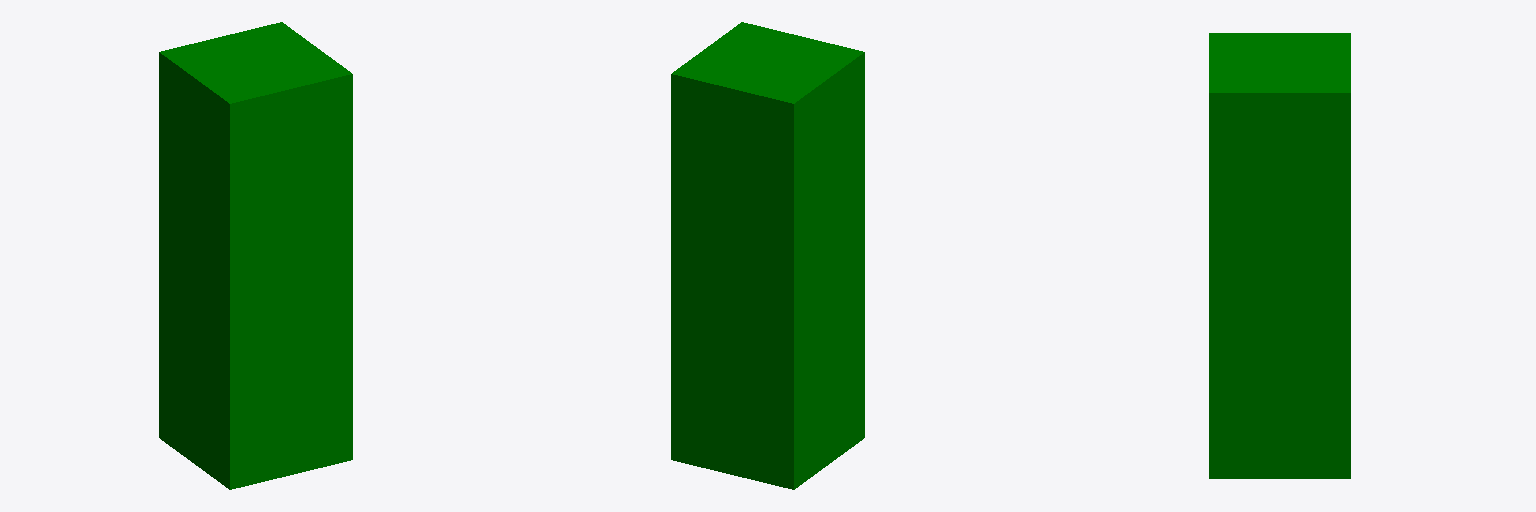
The picture shows the model from 3 angles: view 1: azimuth 30°, elevation 25°; view 2: azimuth 150°, elevation 25°; view 3: azimuth 270°, elevation 25°; orthographic projection.
Parts seen in each view (by area): view 1: object 1; view 2: object 1; view 3: object 1.
Boxes of the visible parts, x1=… form: object 1: x1=159, y1=22, x2=352, y2=489; object 1: x1=671, y1=22, x2=864, y2=489; object 1: x1=1209, y1=33, x2=1350, y2=478.
Bounding box in the file's own units: 0.1 × 0.3 × 0.1.
1 materials, 1 textured.